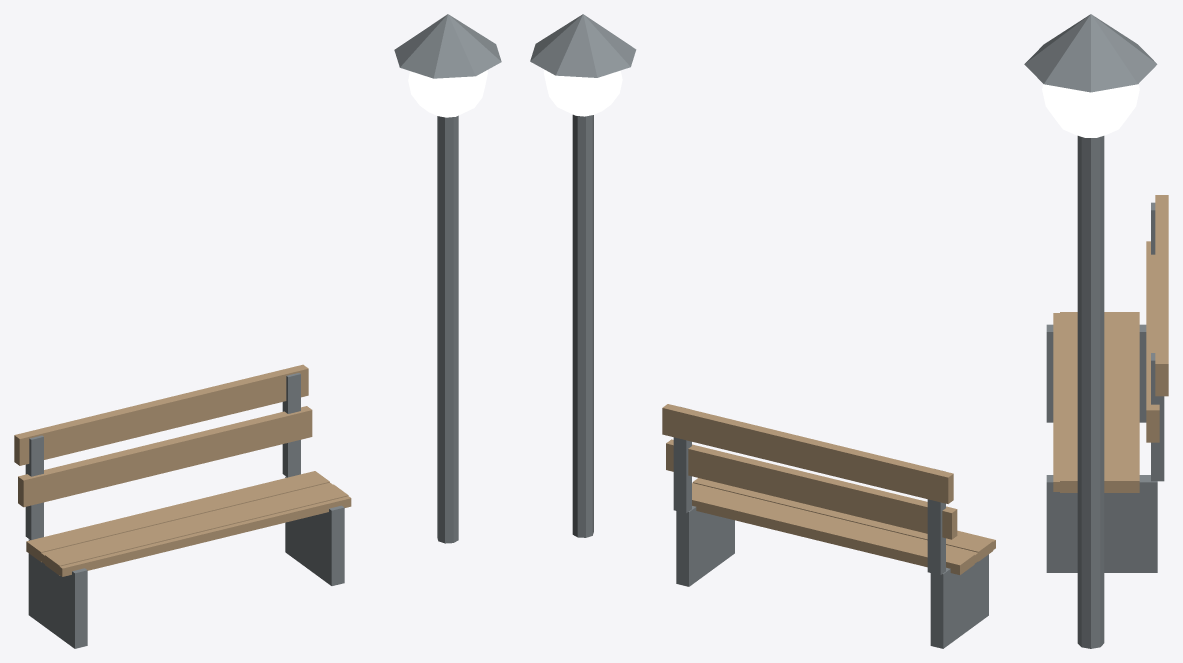
Rendered from lp_parkbank.glb.
3 views of the same model, side by side, from view 1: azimuth 30°, elevation 25°; view 2: azimuth 150°, elevation 25°; view 3: azimuth 270°, elevation 25° (orthographic). The views are drawn at different scales.
Parts seen in each view (by area): view 1: parkbank; view 2: parkbank; view 3: parkbank.
Part boxes in pixels (left/top/right/bottom): parkbank: left=14, top=14, right=501, bottom=648; parkbank: left=530, top=14, right=995, bottom=648; parkbank: left=1024, top=14, right=1168, bottom=648.
Bounding box in the file's own units: 2.8 × 3.13 × 0.65.
